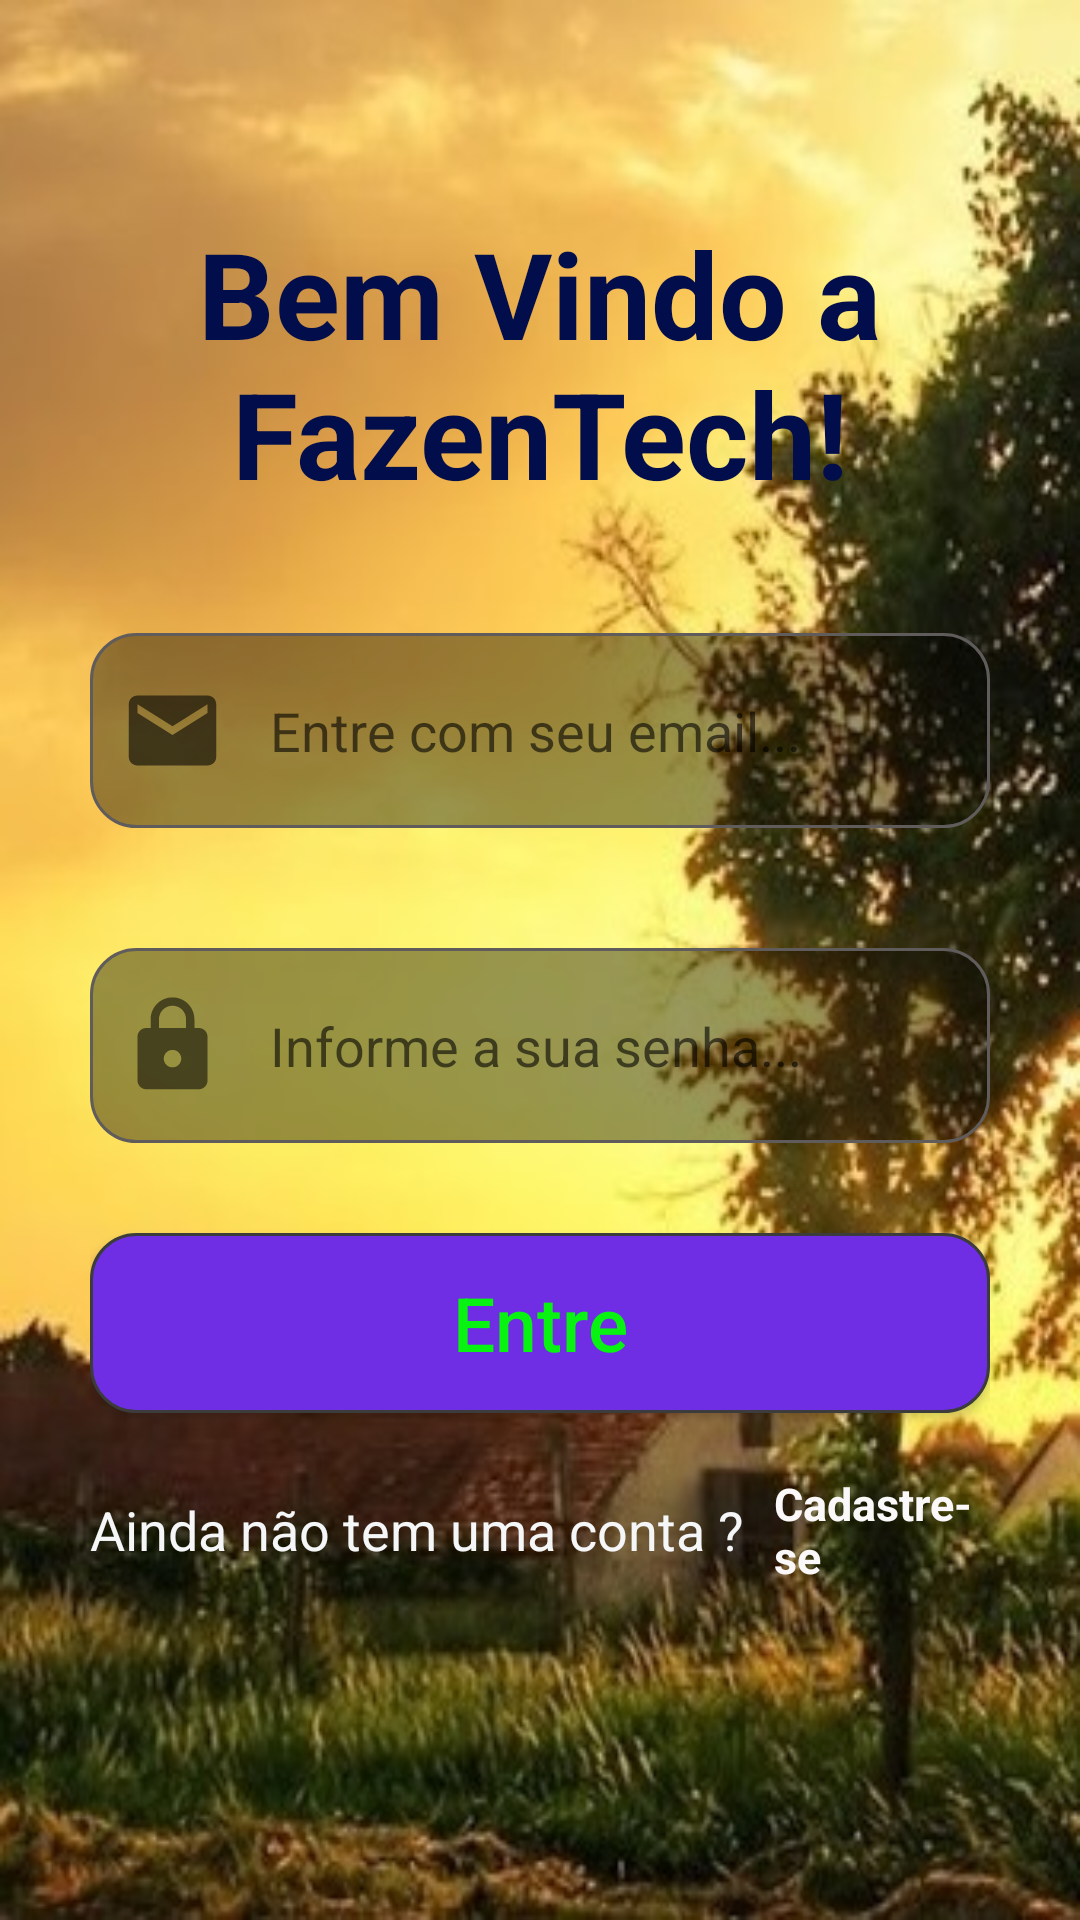

Named icons in this screenshot (1080 × 1920) and their bounding boxes, (x1, y1, x2, y2):
lock: (137, 997, 208, 1089)
